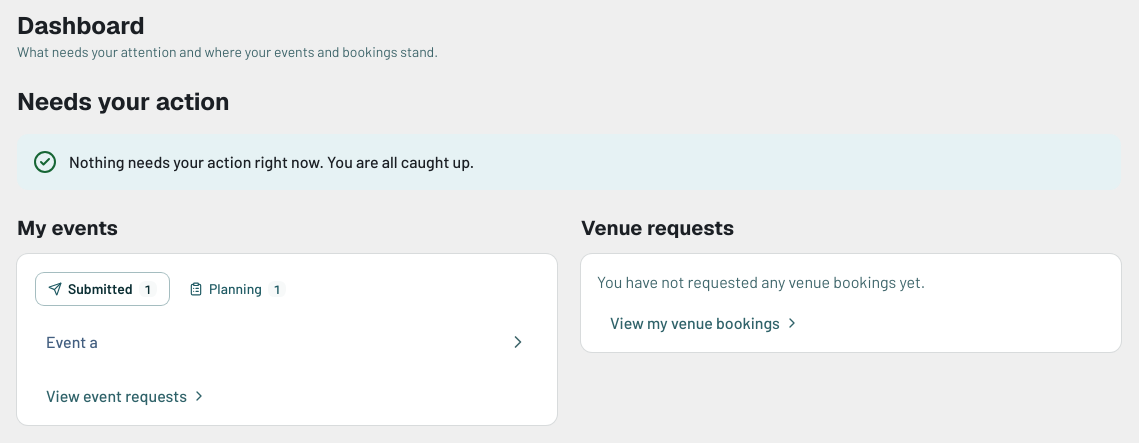
Test: SCRUM-160/AC1 events by status › switches tabs to show the events of another status
Expected: the link "Event b" is not shown
Click the tab "Planning 1" at (238, 289), box [177,273,298,305]
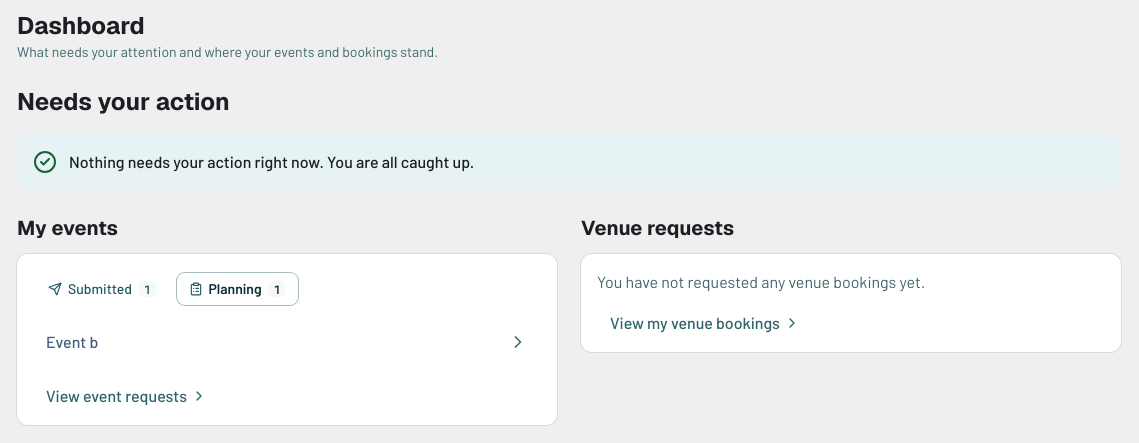
Expected: the link "Event b" is shown, [46,332,528,352]
